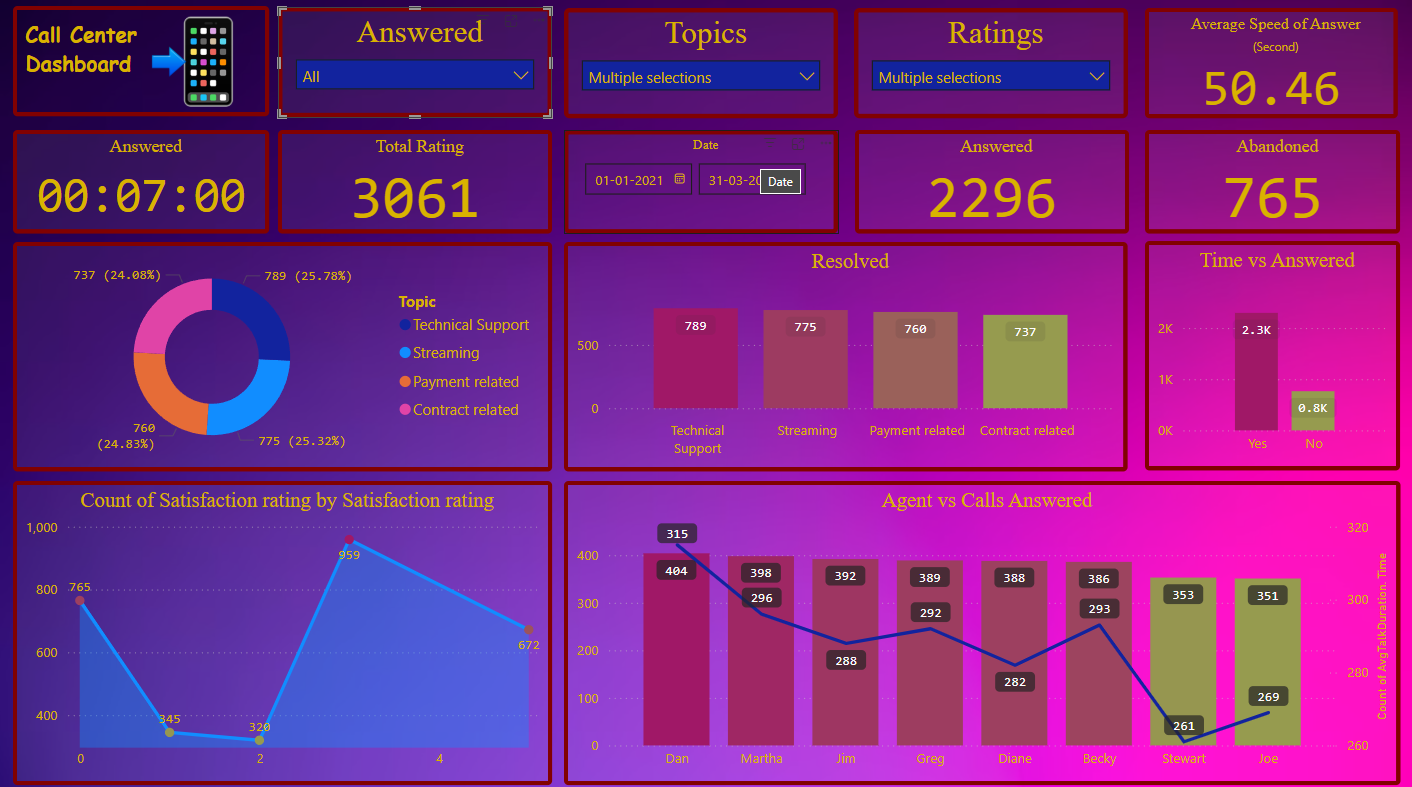

Layout of this report page (visuals, bound fields, positions):
{"tool":"powerbi","page":{"name":"Page 1","canvas":[1280,720],"ordinal":0},"visuals":[{"type":"image","box":[91.4,16.1,168.5,91.4],"z":0},{"type":"textbox","box":[14.3,11.7,230.4,99.5],"z":1000},{"type":"card","title":"Average Speed of Answer","fields":{"Values":["Sheet1.Average Speed of ANswer"]},"box":[1030.8,13.4,226.8,98.6],"z":2000},{"type":"slicer","title":"Answered ","fields":{"Values":["Sheet1.Answered (Y/N)"]},"box":[251.9,12.5,246.5,99.5],"z":3000},{"type":"slicer","title":"Topics","fields":{"Values":["Sheet1.Topic"]},"box":[509.1,13.4,246.5,99.5],"z":4000},{"type":"slicer","title":"Ratings","fields":{"Values":["Sheet1.Satisfaction rating"]},"box":[769.1,13.4,246.5,99.5],"z":5000},{"type":"lineChart","fields":{"Category":["Sheet1.Satisfaction rating"],"Y":["Sheet1.Satisfaction rating"]},"box":[14.3,438.3,484,273.4],"z":6000},{"type":"card","title":"Answered","fields":{"Values":["Sheet1.Answered (Y/N)"]},"box":[770,122.8,245.6,93.2],"z":7000},{"type":"card","title":"Abandoned","fields":{"Values":["Sheet1.Answered (Y/N)"]},"box":[1030.8,122.8,229.5,93.2],"z":8000},{"type":"donutChart","fields":{"Category":["Sheet1.Topic"],"Series":["Sheet1.Topic"],"Y":["Sheet1.Topic"]},"box":[14.3,223.2,484,206.2],"z":9000},{"type":"lineClusteredColumnComboChart","title":"Agent vs Calls Answered","fields":{"Category":["Sheet1.Agent"],"Y":["Sheet1.Answered (Y/N)"],"Y2":["Sheet1.AvgTalkDuration. Time"]},"box":[509.1,438.3,751.1,273.4],"z":10000},{"type":"slicer","title":"Date","fields":{"Values":["Sheet1.Date"]},"box":[509.1,122.8,246.5,93.2],"z":11000},{"type":"card","title":"Answered","fields":{"Values":["Sheet1.AvgTalkDuration. Time"]},"box":[14.2,122.7,230.2,93.3],"z":12000},{"type":"card","title":"Total Rating","fields":{"Values":["Sheet1.Satisfaction rating"]},"box":[252.4,122.7,246.2,93.3],"z":13000},{"type":"columnChart","title":" Resolved ","fields":{"Category":["Sheet1.Topic"],"Y":["Sheet1.Resolved"]},"box":[509.3,223.1,505.8,206.2],"z":14000},{"type":"columnChart","title":"Time vs Answered","fields":{"Y":["Sheet1.Time.2"],"Category":["Sheet1.Answered (Y/N)"]},"box":[1031,223,229,206],"z":15000}]}

Visuals, with their boxes in screenshot pixels (x1, y1, x2, y2), scaled from the page's 1280x720 canvas onto the 1412x787 screenshot:
image: x1=101, y1=18, x2=287, y2=118
textbox: x1=16, y1=13, x2=270, y2=122
"Average Speed of Answer" card: x1=1137, y1=15, x2=1387, y2=122
"Answered " slicer: x1=278, y1=14, x2=550, y2=122
"Topics" slicer: x1=562, y1=15, x2=834, y2=123
"Ratings" slicer: x1=848, y1=15, x2=1120, y2=123
lineChart - Sheet1.Satisfaction rating x Sheet1.Satisfaction rating: x1=16, y1=479, x2=550, y2=778
"Answered" card: x1=849, y1=134, x2=1120, y2=236
"Abandoned" card: x1=1137, y1=134, x2=1390, y2=236
donutChart - Sheet1.Topic x Sheet1.Topic: x1=16, y1=244, x2=550, y2=469
"Agent vs Calls Answered" lineClusteredColumnComboChart: x1=562, y1=479, x2=1390, y2=778
"Date" slicer: x1=562, y1=134, x2=834, y2=236
"Answered" card: x1=16, y1=134, x2=270, y2=236
"Total Rating" card: x1=278, y1=134, x2=550, y2=236
" Resolved " columnChart: x1=562, y1=244, x2=1120, y2=469
"Time vs Answered" columnChart: x1=1137, y1=244, x2=1390, y2=469
